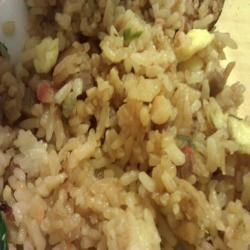rice: (36, 38, 185, 210)
